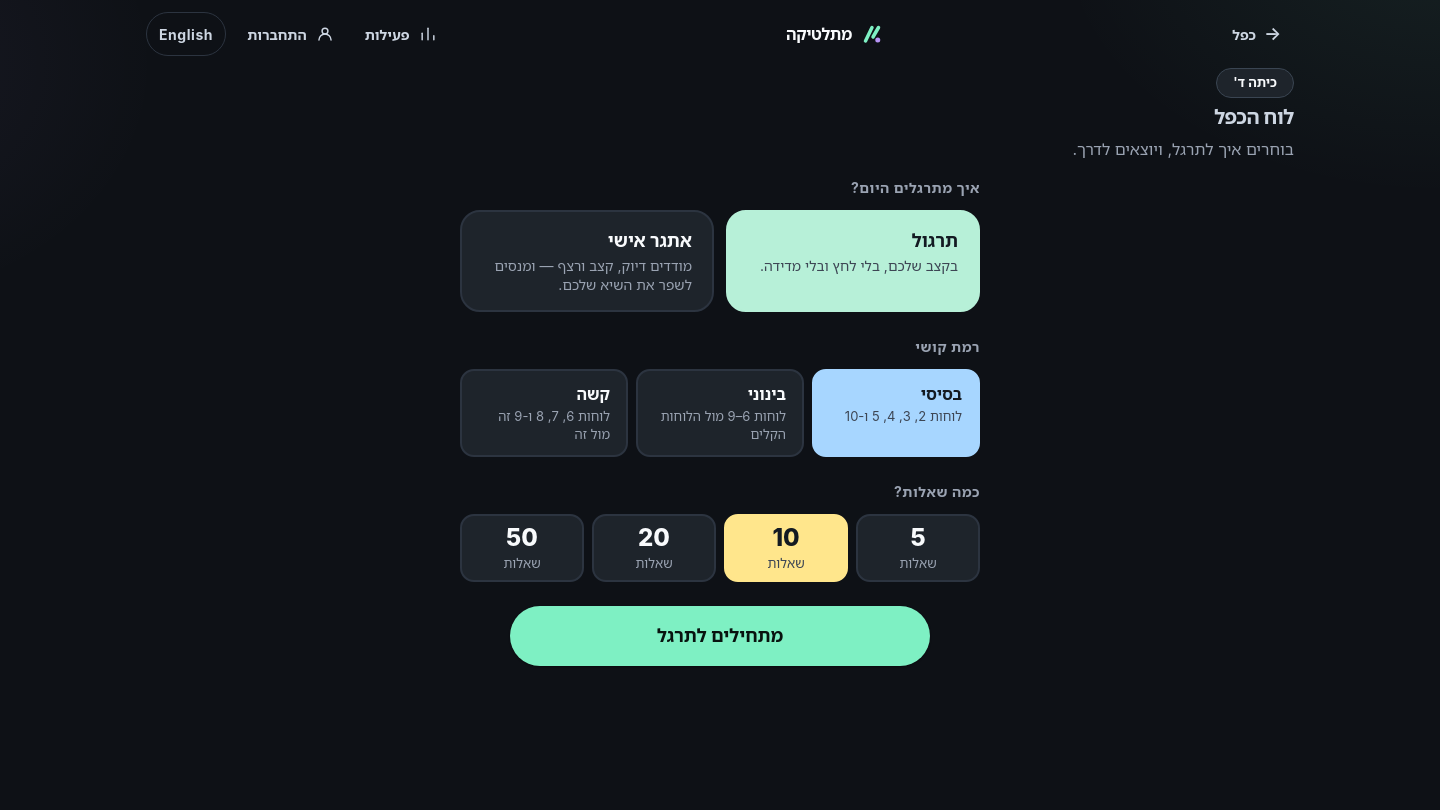
Test: Multiplication Tables — personal challenge › only offers the challenge-eligible lengths
Click the button with test id "tr-mode-challenge" at {"x": 587, "y": 260}, box left=460, top=210, right=714, bottom=312
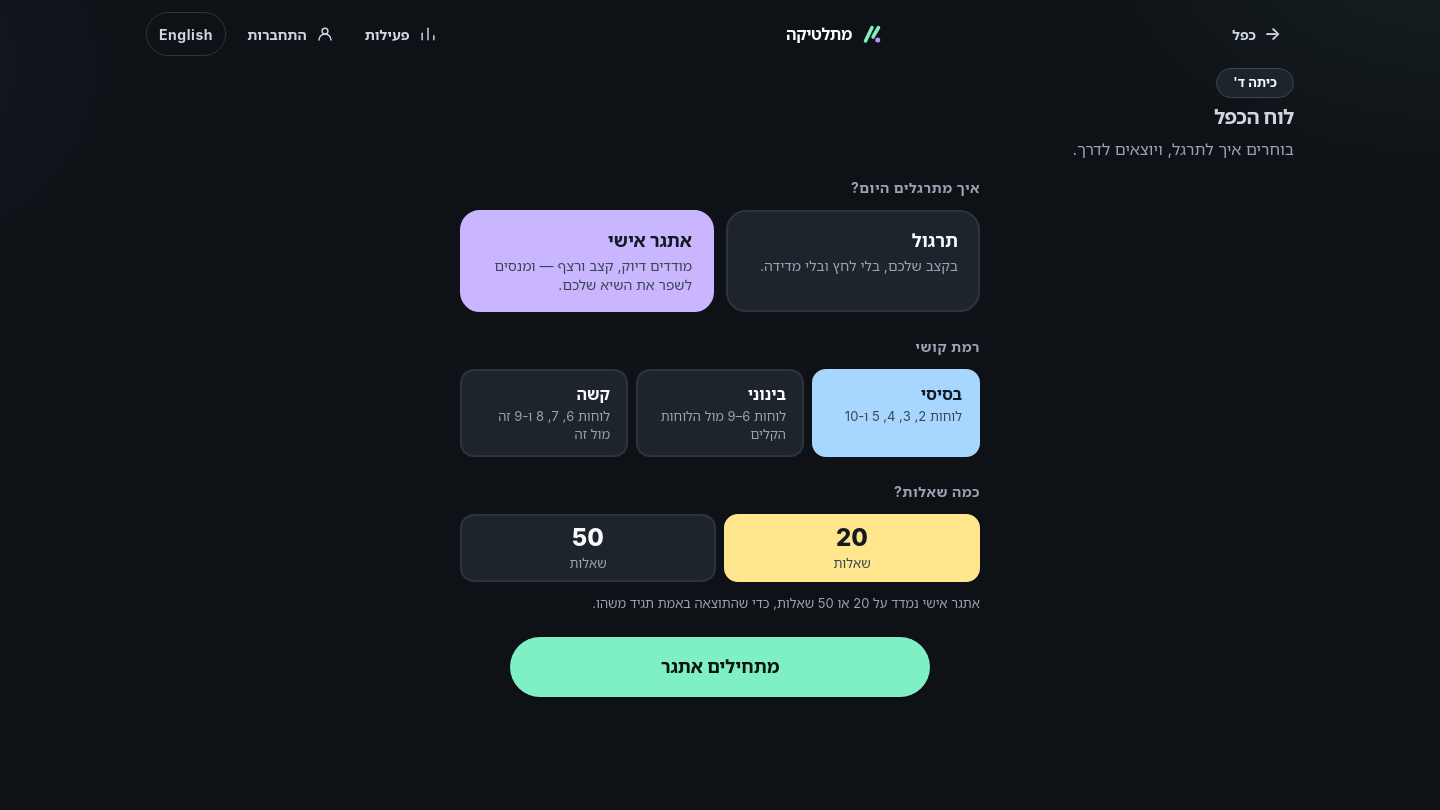
Expected: the button with test id "tr-count-20" is shown, left=724, top=514, right=980, bottom=582
Expected: the button with test id "tr-count-5" is gone
Expected: the button with test id "tr-count-10" is gone
